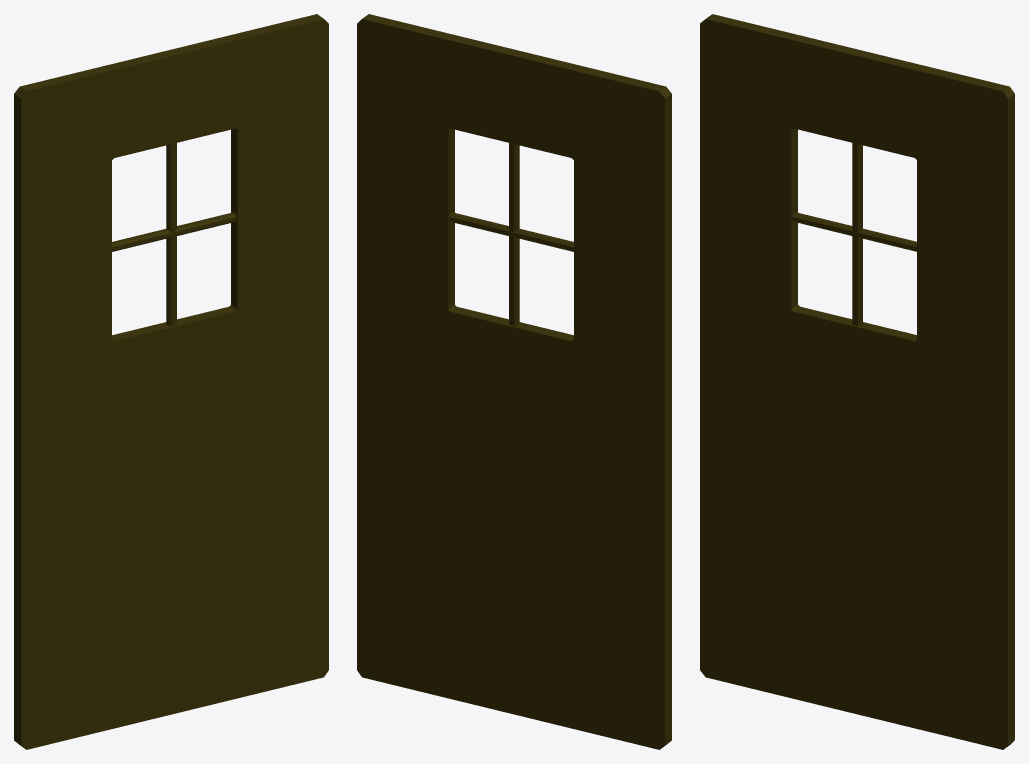
Rendered from Door.fbx.
The picture shows the model from 3 angles, left to right: view 1: azimuth 30°, elevation 25°; view 2: azimuth 150°, elevation 25°; view 3: azimuth 330°, elevation 25°; orthographic projection.
Visible parts, largest first — view 1: pCube8; view 2: pCube8; view 3: pCube8.
Boxes of the visible parts, box(x1,y1,x2,y2) form: pCube8: box(14, 14, 328, 749); pCube8: box(357, 14, 671, 749); pCube8: box(700, 14, 1014, 749).
Size of the model in its own units: 1.43 by 2.93 by 0.0548.
